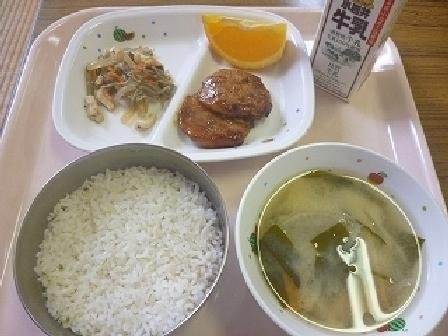Citrus: (192, 12, 293, 69)
Meat: (170, 63, 282, 151)
Milk: (300, 0, 408, 92)
Rice: (4, 152, 222, 333)
Soups: (237, 152, 441, 334)
salad with sauce: (63, 28, 179, 130)
